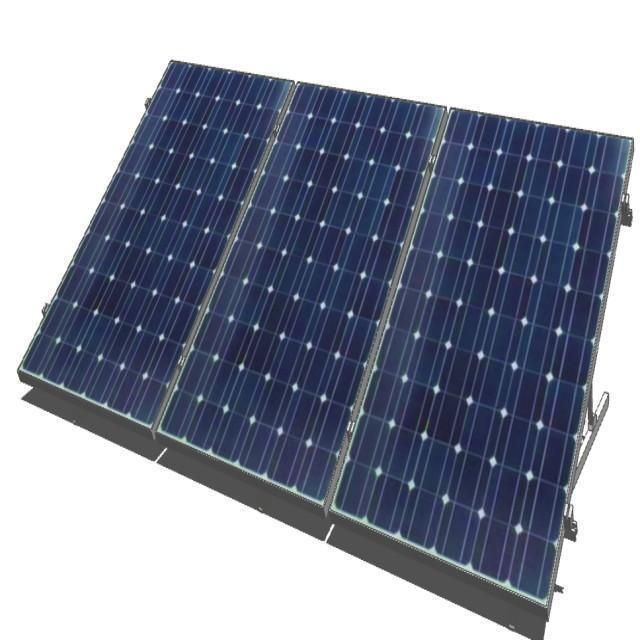Normal Solar Panel: (320, 96, 631, 603), (152, 53, 447, 501), (19, 27, 294, 425)
